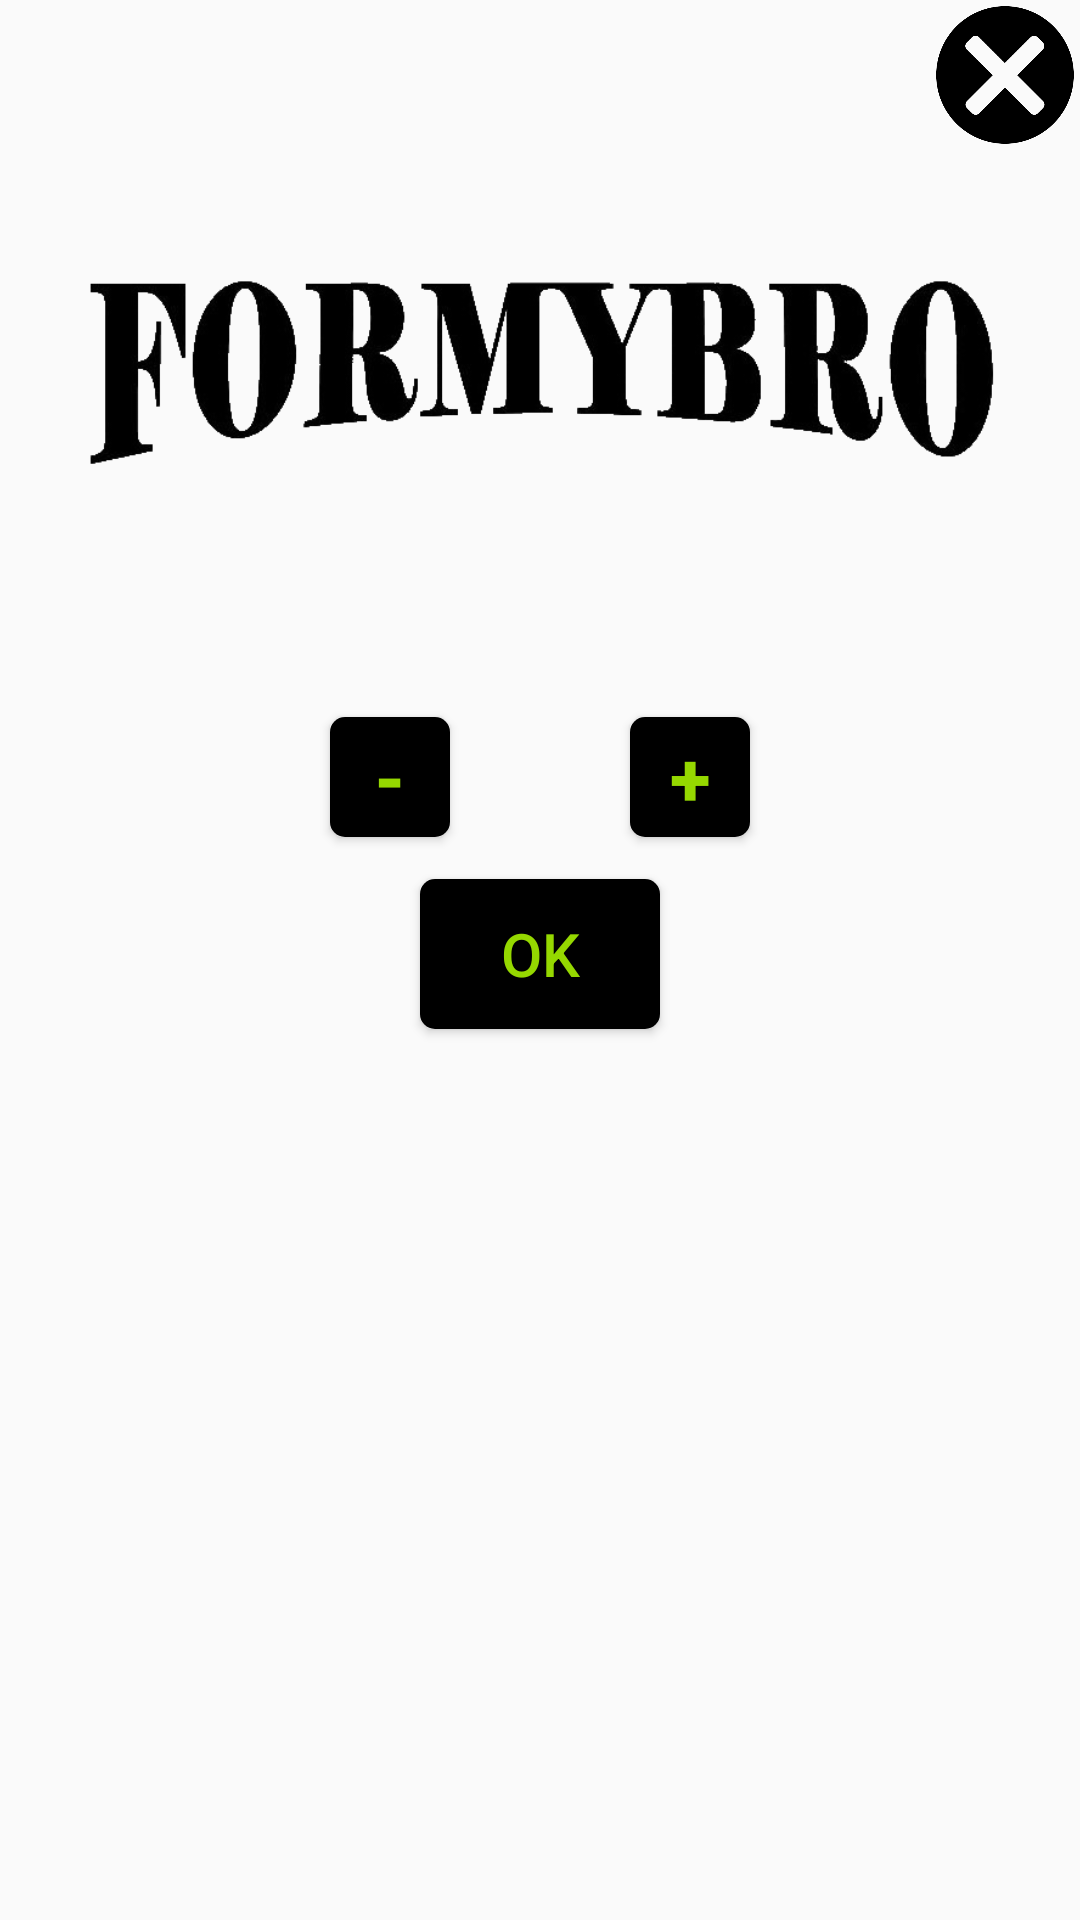

Named icons in this screenshot (1080*1920) and their centers, [x,y]:
close: [1005,75]
